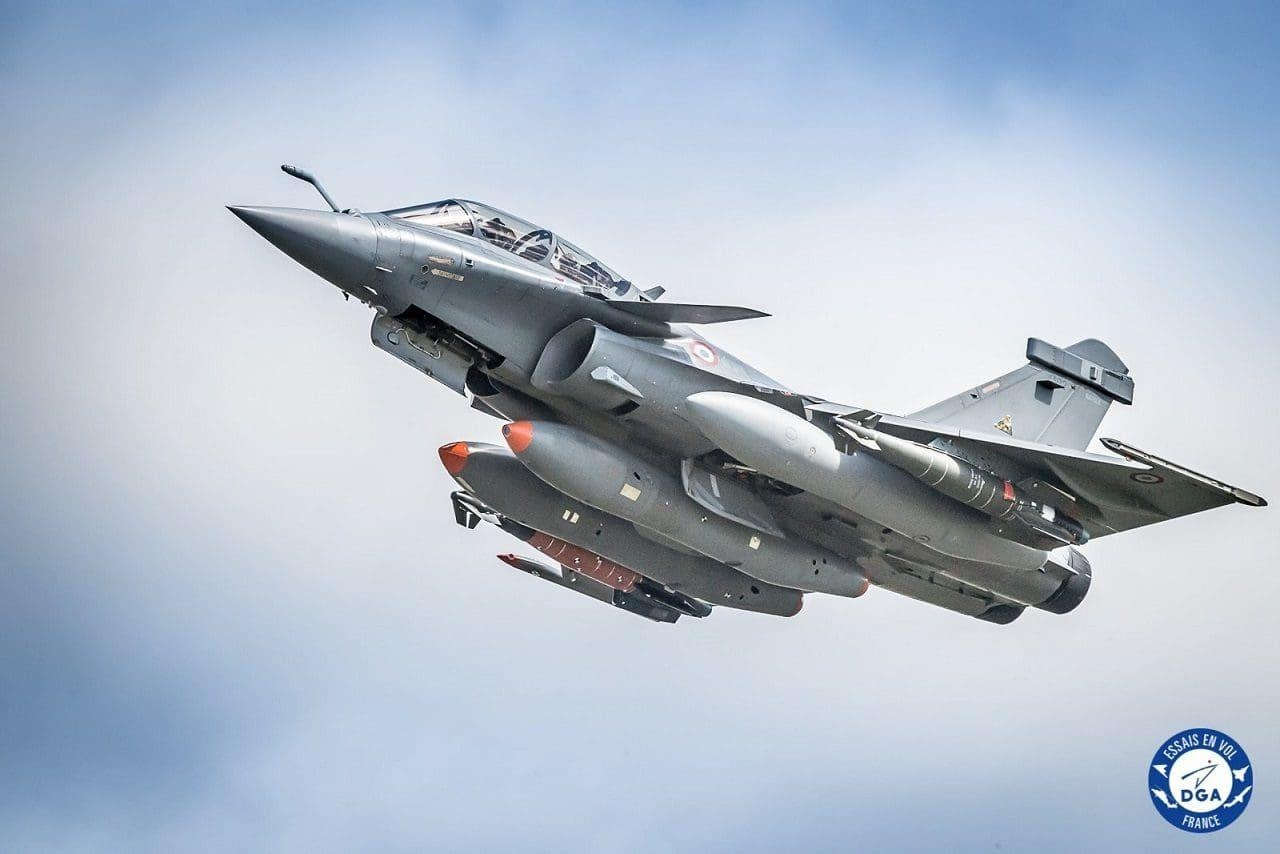aircraft: (230, 162, 1278, 641)
